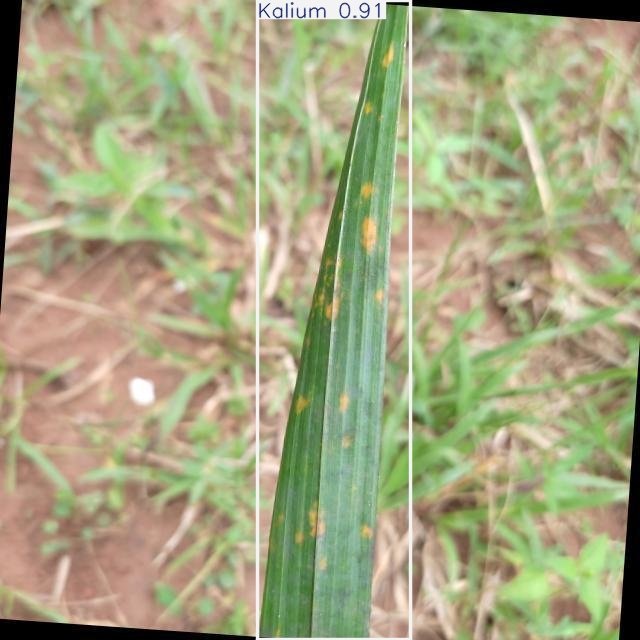Kalium: (257, 1, 410, 640)
